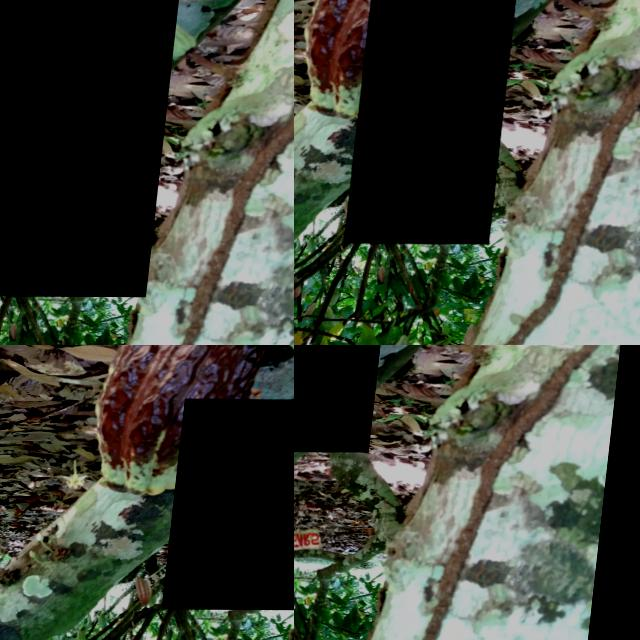Fitoftora: (0, 0, 201, 296), (356, 0, 527, 243), (173, 398, 294, 609), (294, 345, 399, 451)
Sana: (294, 86, 386, 226), (520, 275, 582, 345)
